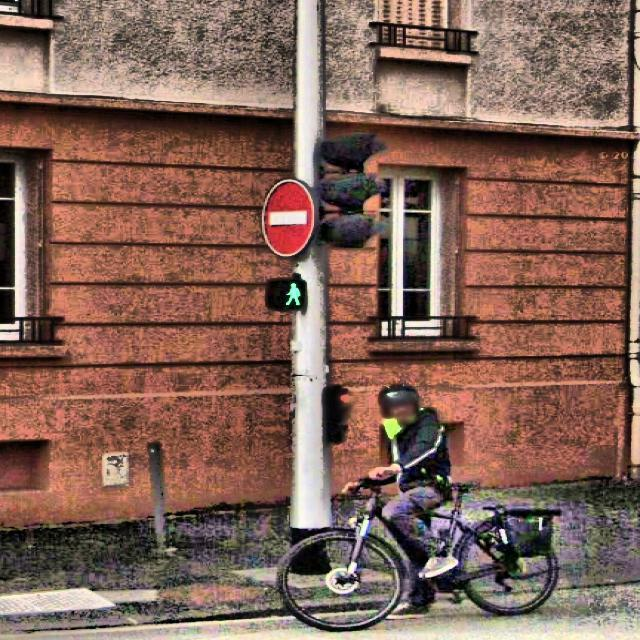green_light: (281, 278, 302, 308)
